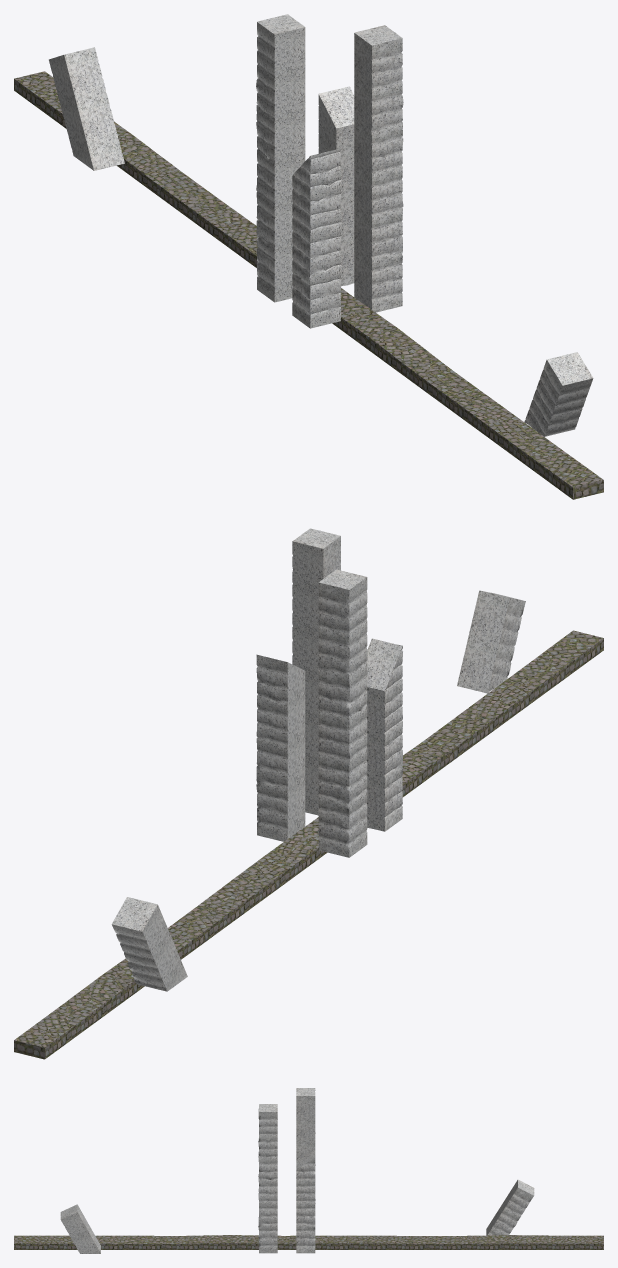
Rendered from preview.glb.
3 renders of one model, top to bottom at view 1: azimuth 30°, elevation 25°; view 2: azimuth 150°, elevation 25°; view 3: azimuth 270°, elevation 25°, orthographic. The views are drawn at different scales.
Parts seen in each view (by area): view 1: Material2 (×2); view 2: Material2 (×2); view 3: Material2 (×2).
Boxes of the visible parts, <box> form: Material2 (×2): <box>14,14,603,499</box>; Material2 (×2): <box>14,528,603,1059</box>; Material2 (×2): <box>14,1088,603,1253</box>.
Bounding box in the file's own units: 61.4 × 169 × 618.
Materials: 2 (2 with a texture image).
